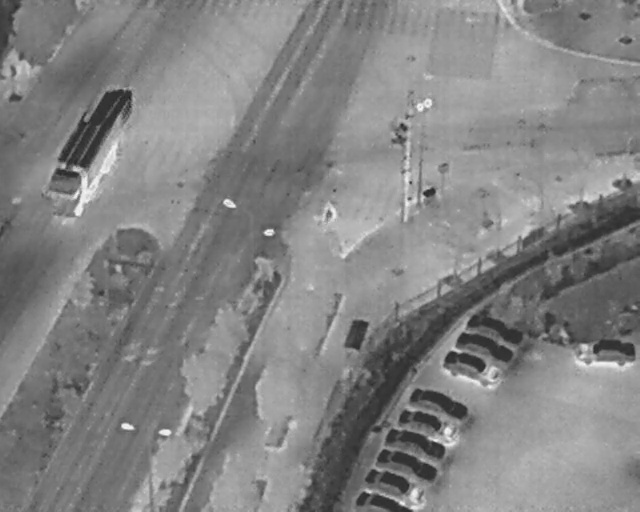Bicycle: (320, 199, 339, 223)
Car: (357, 459, 433, 510), (437, 343, 508, 395), (371, 441, 445, 488), (394, 401, 466, 447), (381, 421, 453, 466), (451, 326, 518, 371), (462, 307, 529, 352), (405, 382, 473, 423), (575, 337, 637, 367), (354, 488, 414, 510)
OtherVehicle: (29, 66, 146, 230)
